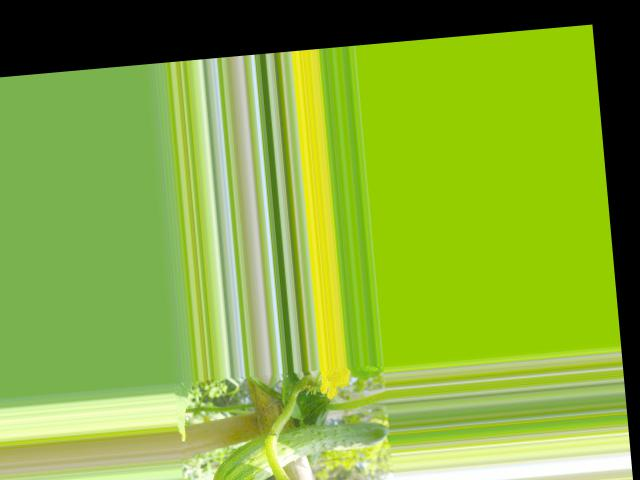cucumber: (206, 419, 394, 480)
